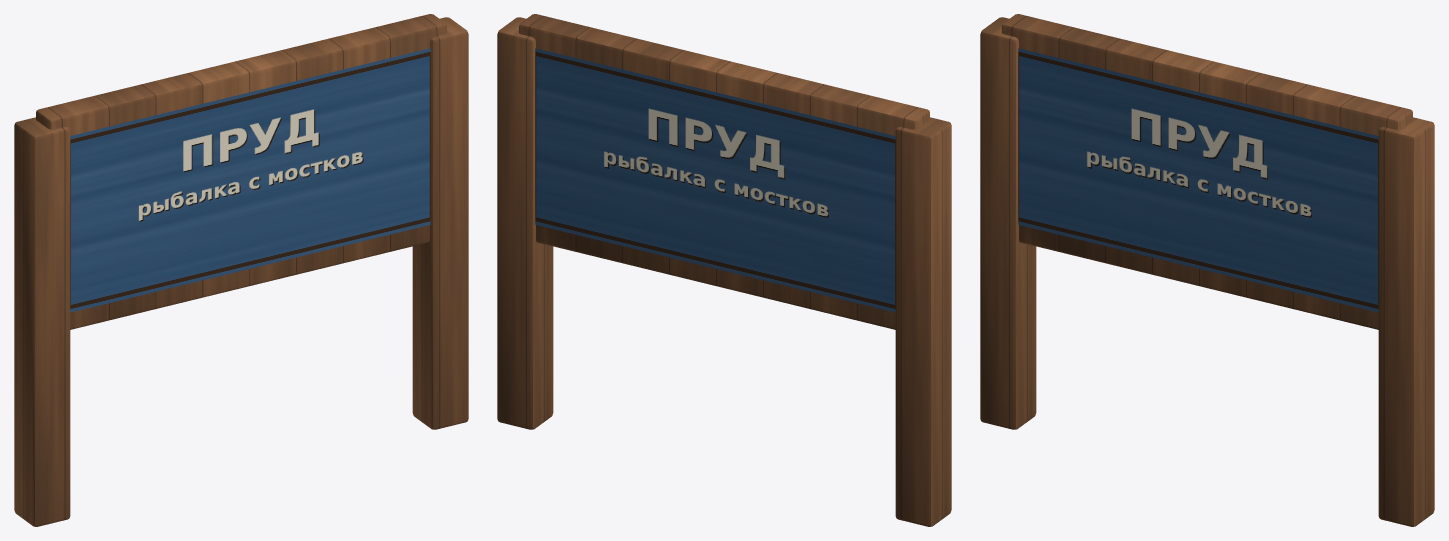
File: sign_pond.glb
The picture shows the model from 3 angles, left to right: view 1: azimuth 30°, elevation 25°; view 2: azimuth 150°, elevation 25°; view 3: azimuth 330°, elevation 25°; orthographic projection.
Visible parts, largest first — view 1: sign_pond; view 2: sign_pond; view 3: sign_pond.
Part boxes in pixels (left/top/right/bottom): sign_pond: left=14, top=14, right=468, bottom=526; sign_pond: left=497, top=14, right=951, bottom=526; sign_pond: left=980, top=14, right=1434, bottom=526.
Size of the model in its own units: 1.86 by 1.64 by 0.16.
2 materials, 2 textured.
